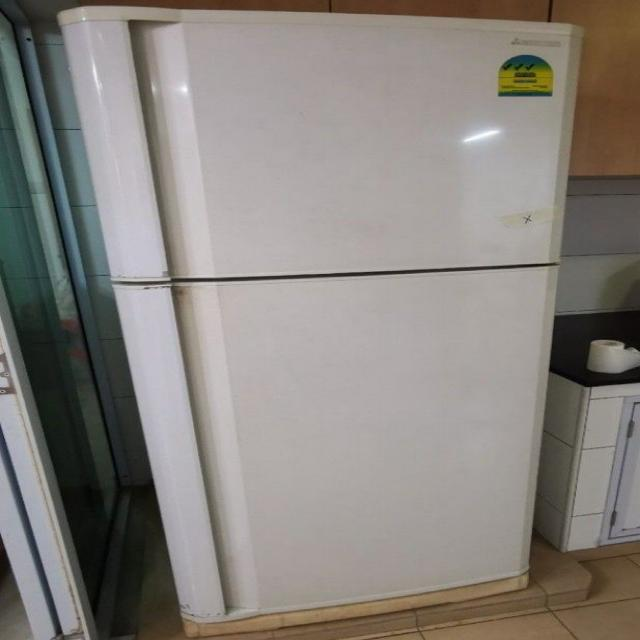refrigerator: (59, 6, 580, 634)
